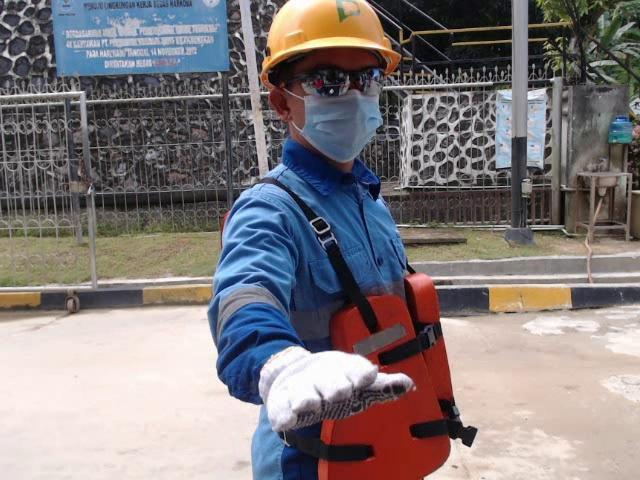0: (251, 342, 416, 439)
Boots: (253, 0, 409, 88)
Glass: (205, 159, 505, 479)
